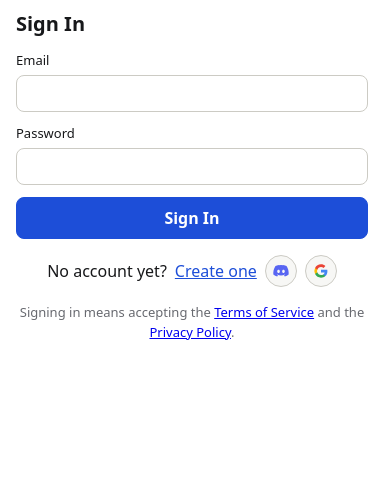
Test: signing in does not throw a new account off the page
Type "new@b.c" into the field labelled "Email" at {"x": 192, "y": 93}, box top-left (16, 74), bottom-right (368, 112)
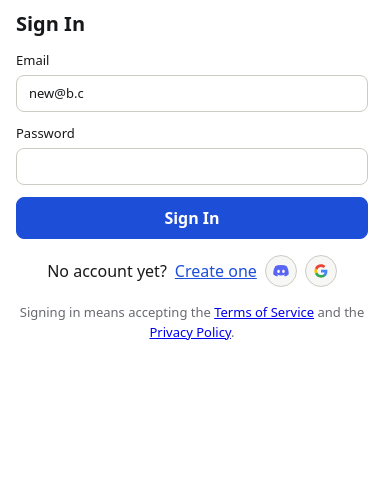
Type "pw" into the password field labelled "Password" at {"x": 192, "y": 166}, box top-left (16, 148), bottom-right (368, 185)
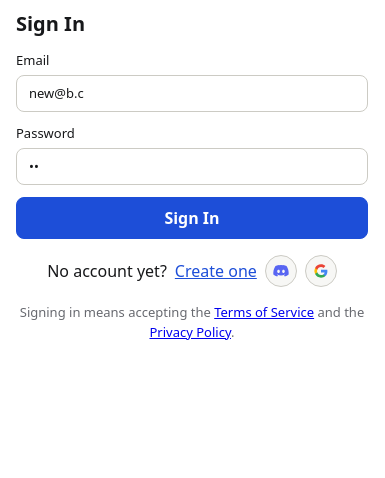
Click the button "Sign In" at {"x": 192, "y": 218}, box top-left (16, 197), bottom-right (368, 239)
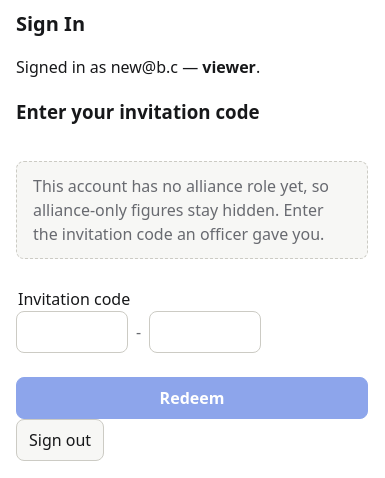
expect the text "Signed in as new@b.c — viewer." is shown: met, box top-left (16, 56), bottom-right (260, 78)
